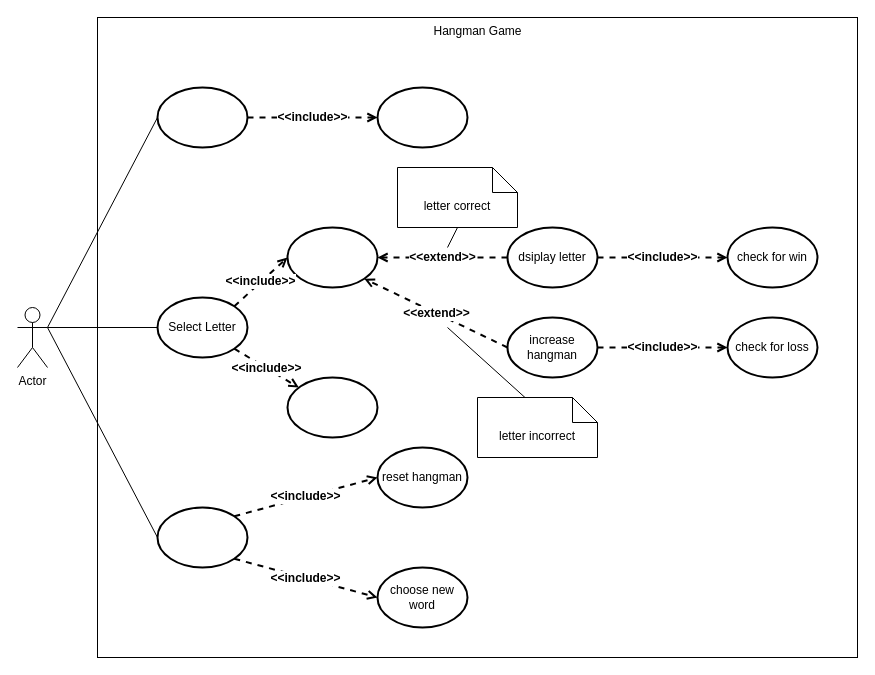
Image size: 875x675. Some labels were removed from this diagram. The shapes that lost their labels are listed below. From the top down, each one's centre as x and y in pixels, then its label:
the point at 202,117: Start game
the point at 422,117: choose word
the point at 332,257: check letter
the point at 332,407: deactivate letter
the point at 202,537: Reset Game
